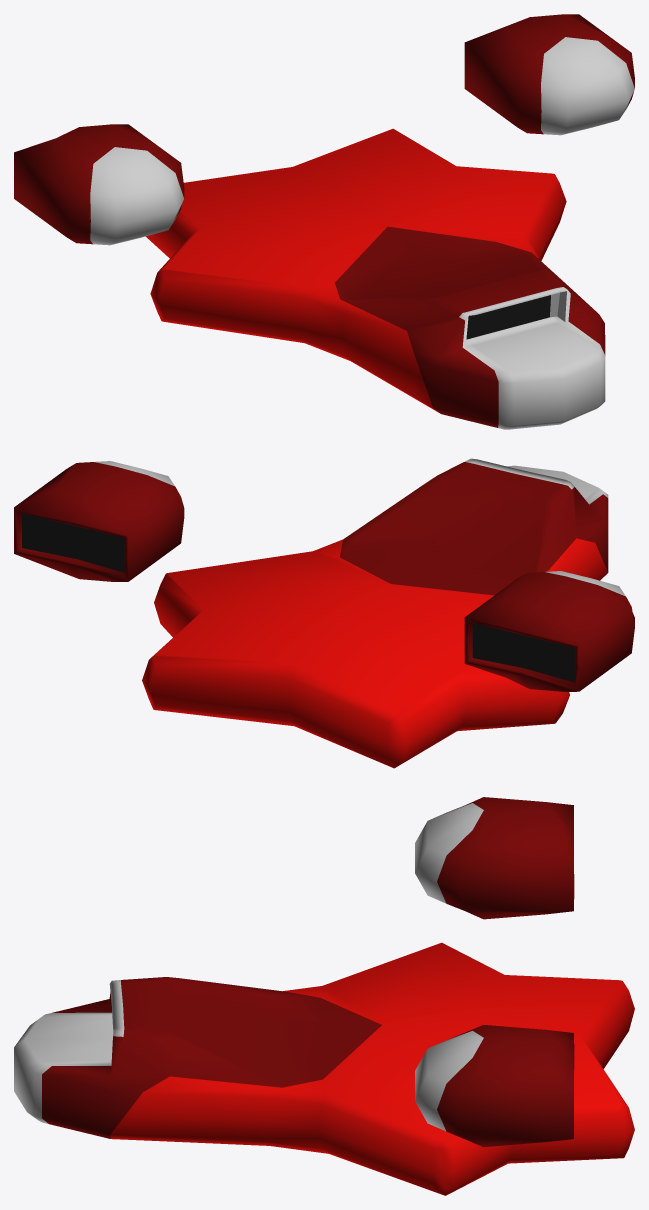
File: turbostar.fbx
3 views of the same model, one above another, from view 1: azimuth 30°, elevation 25°; view 2: azimuth 150°, elevation 25°; view 3: azimuth 270°, elevation 25° (orthographic). The views are drawn at different scales.
Visible parts, largest first — view 1: Cube; view 2: Cube; view 3: Cube.
Part boxes in pixels (box(x1,y1,x2,y2)): Cube: box(14, 14, 634, 429); Cube: box(14, 458, 634, 768); Cube: box(14, 797, 634, 1195).
Bounding box in the file's own units: 247 × 76.93 × 227.
